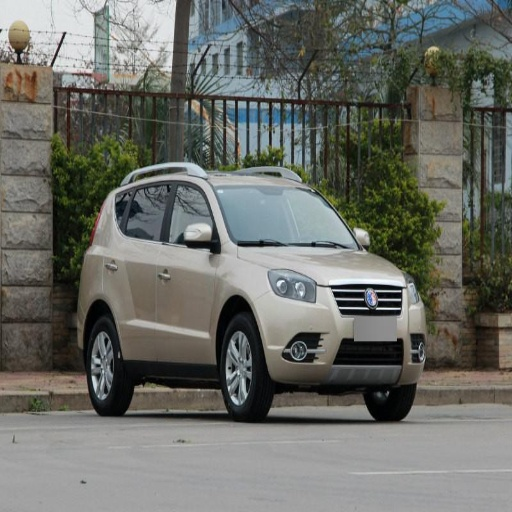front_bumper: (259, 286, 424, 386)
front_right_door: (156, 177, 216, 360)
front_right_light: (269, 271, 317, 301)
hood: (242, 247, 407, 285)
